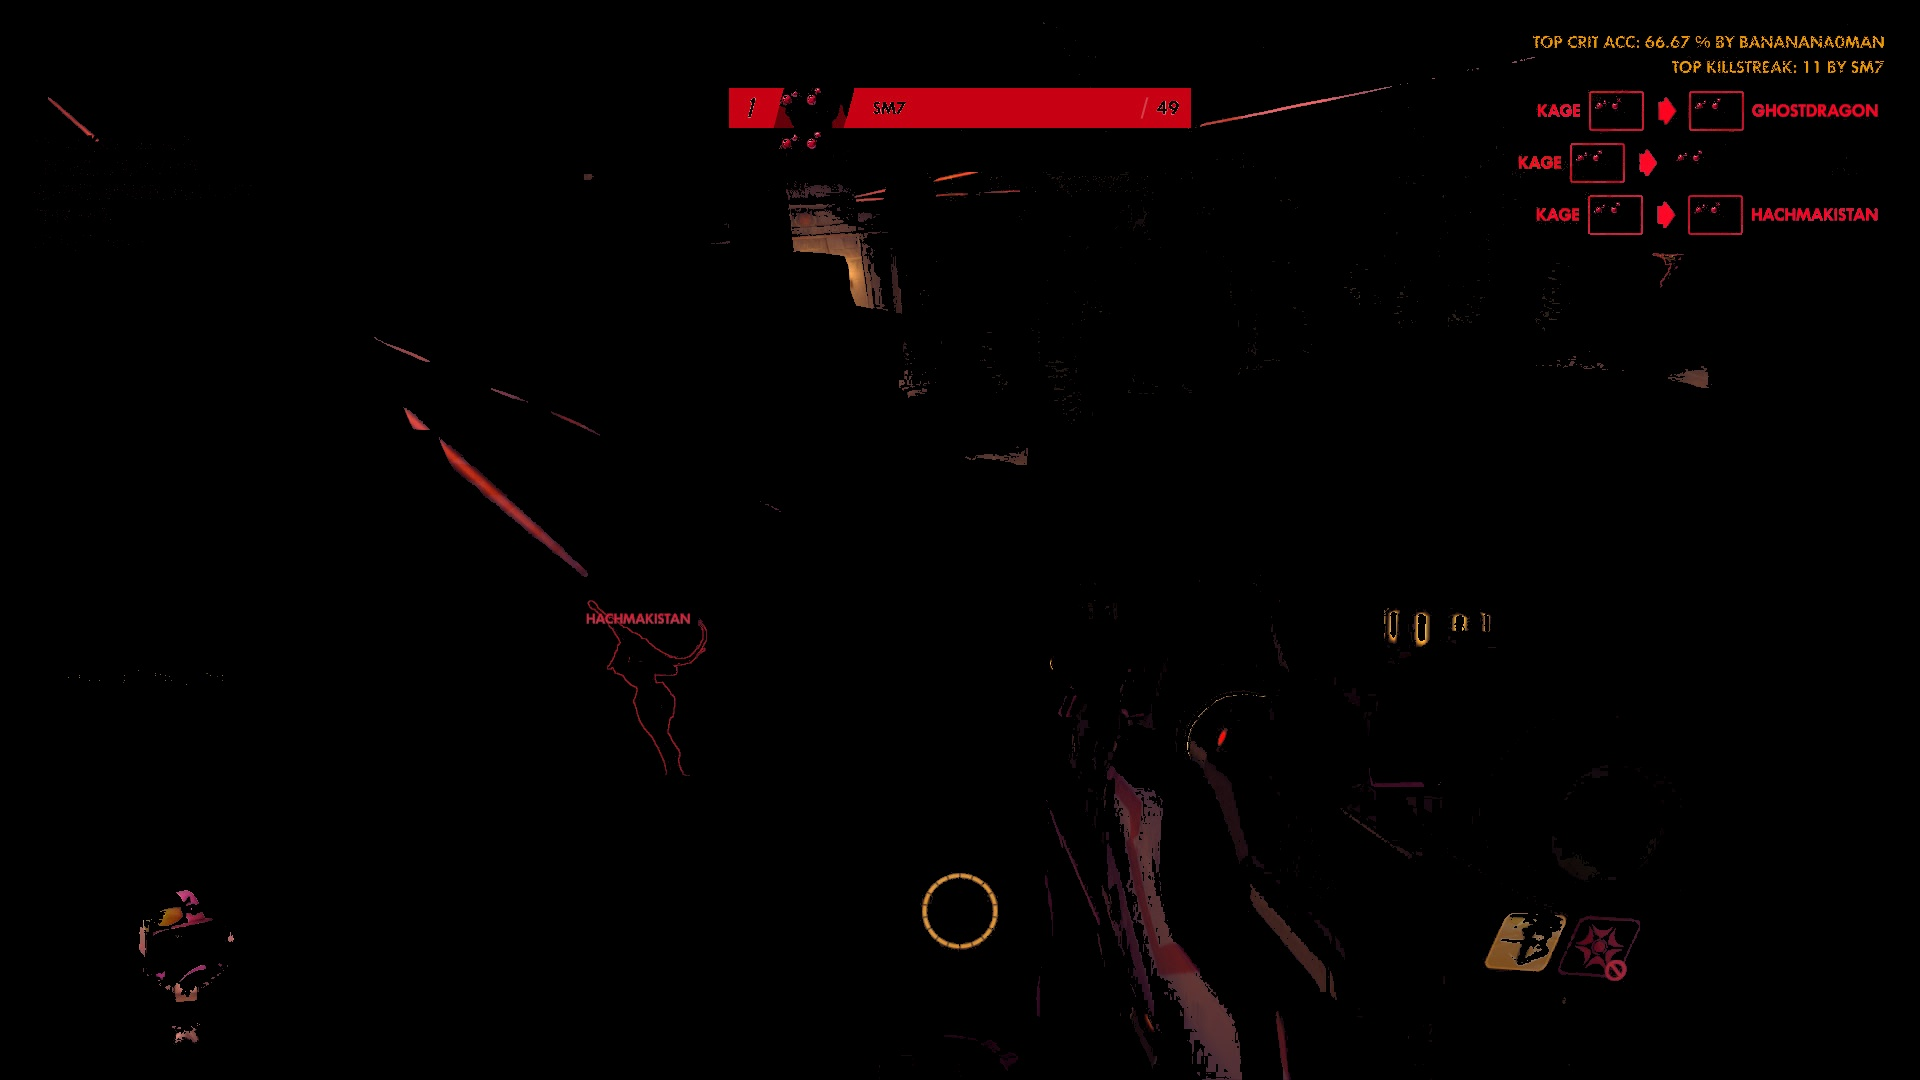widowmaker: (579, 597, 729, 796)
